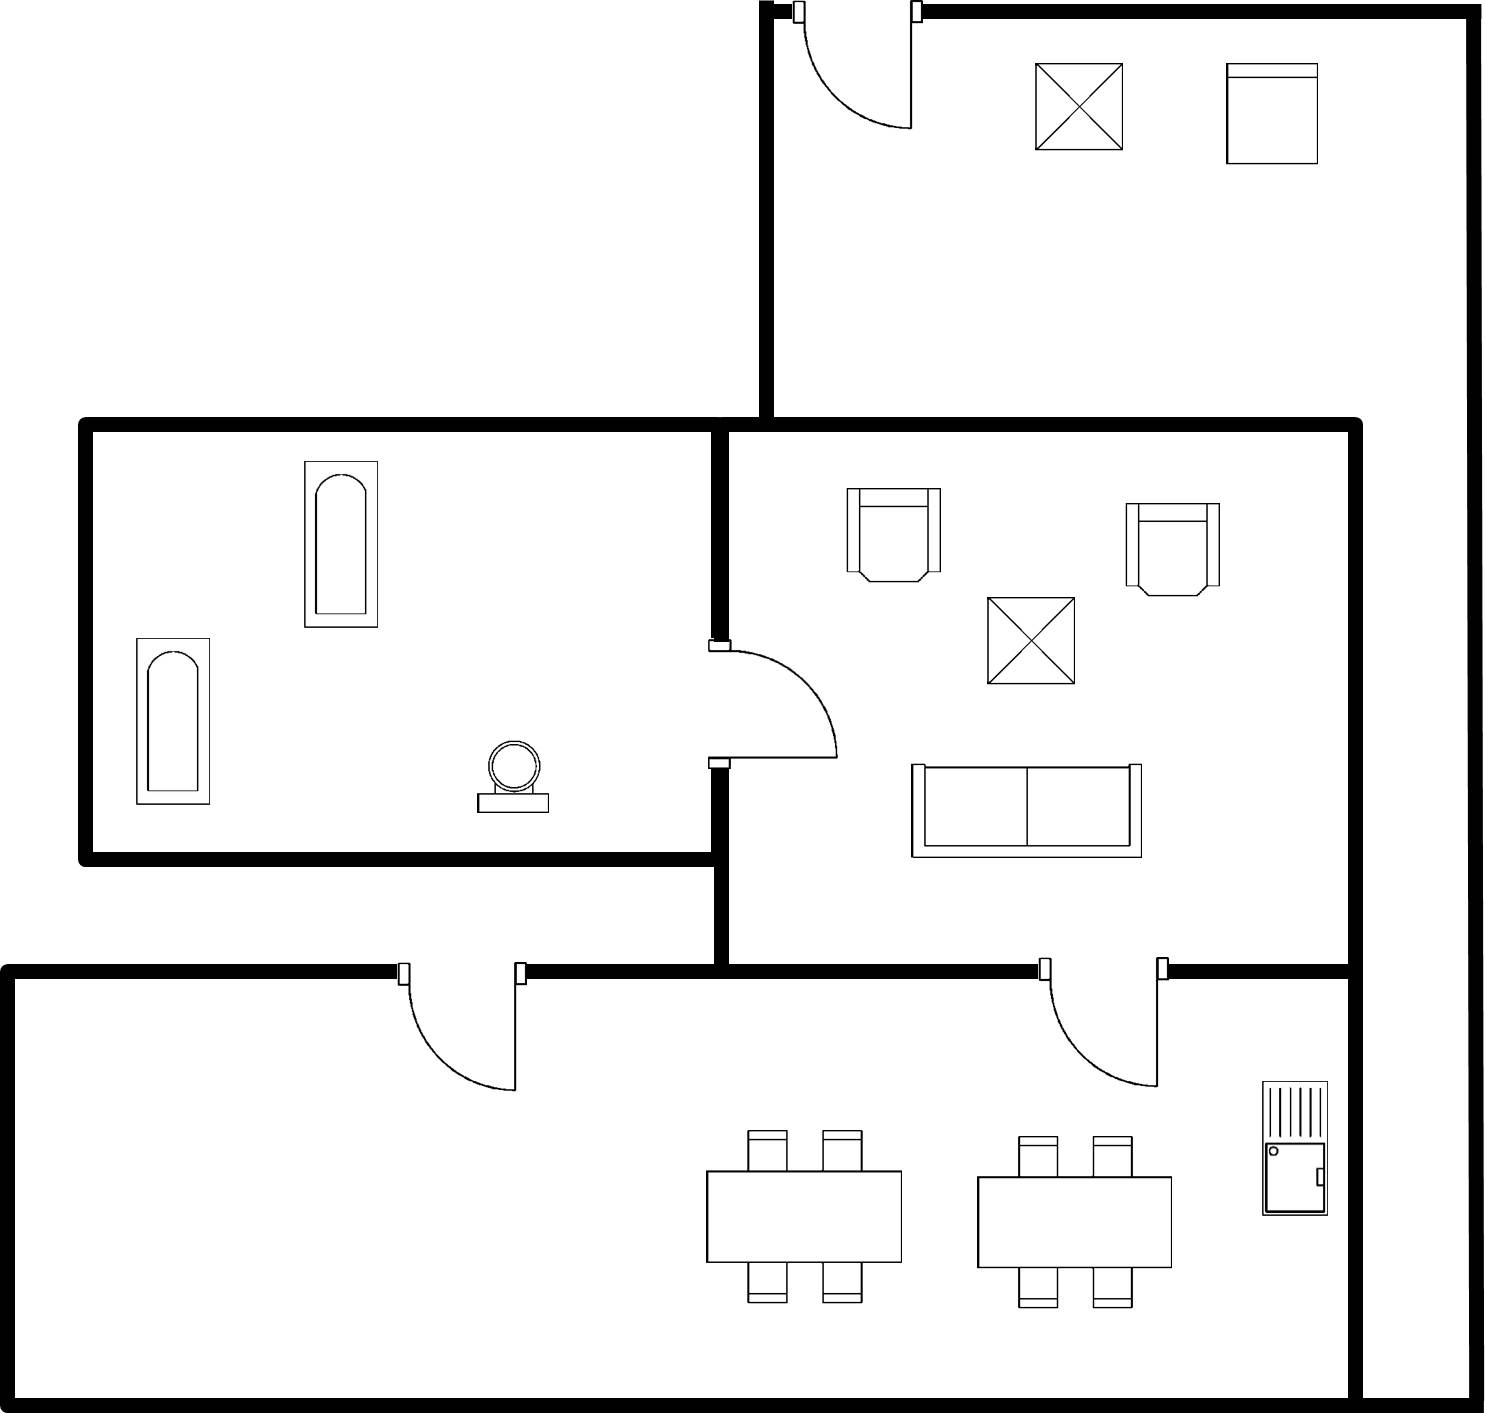armchair: (1112, 492, 1237, 611), (832, 480, 951, 596)
coffee_table: (974, 585, 1086, 699), (1027, 52, 1136, 165)
dining_table: (695, 1115, 919, 1313), (969, 1122, 1185, 1315)
large_sink: (469, 731, 562, 822)
large_sofa: (895, 752, 1155, 876)
sink: (1252, 1070, 1334, 1228)
small_sofa: (1210, 47, 1329, 176)
tub: (125, 629, 222, 817), (293, 454, 386, 644)
